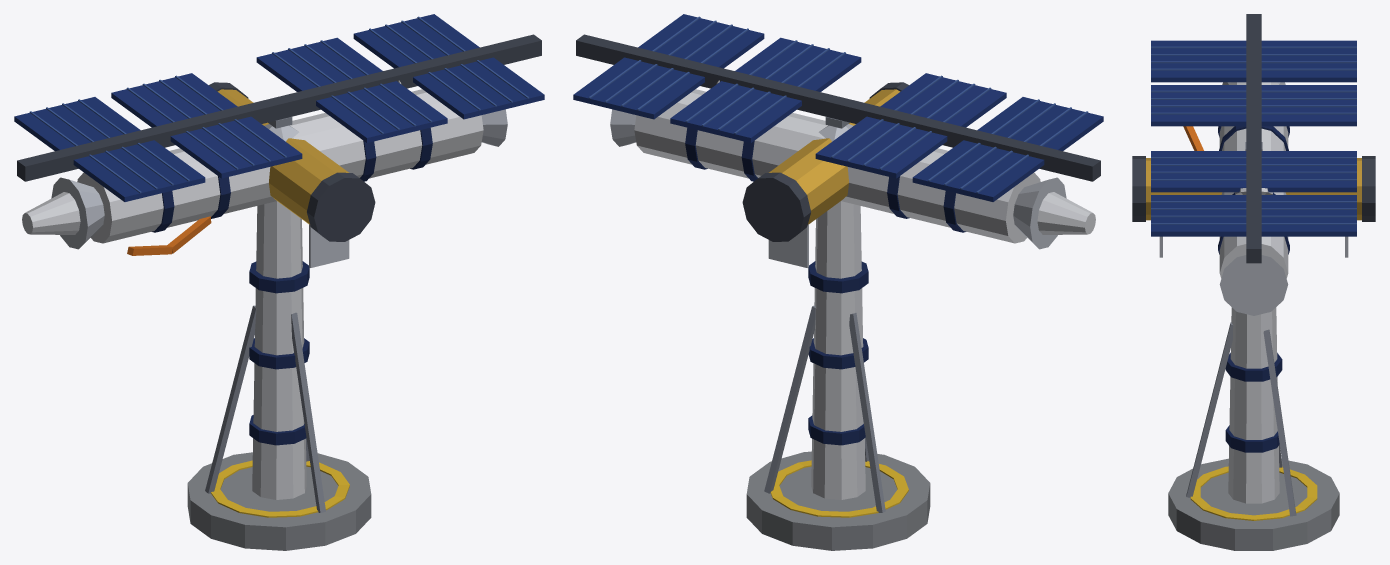
Rendered from Decor_LaunchPad_Station.fbx.
3 renders of one model, left to right at view 1: azimuth 30°, elevation 25°; view 2: azimuth 150°, elevation 25°; view 3: azimuth 270°, elevation 25°, orthographic. The views are drawn at different scales.
Parts seen in each view (by area): view 1: Station_Body; view 2: Station_Body; view 3: Station_Body.
Part boxes in pixels (box(x1,y1,x2,y2)): Station_Body: box(14, 14, 544, 550); Station_Body: box(573, 14, 1103, 550); Station_Body: box(1132, 14, 1375, 550).
Bounding box in the file's own units: 32 × 24.35 × 14.
